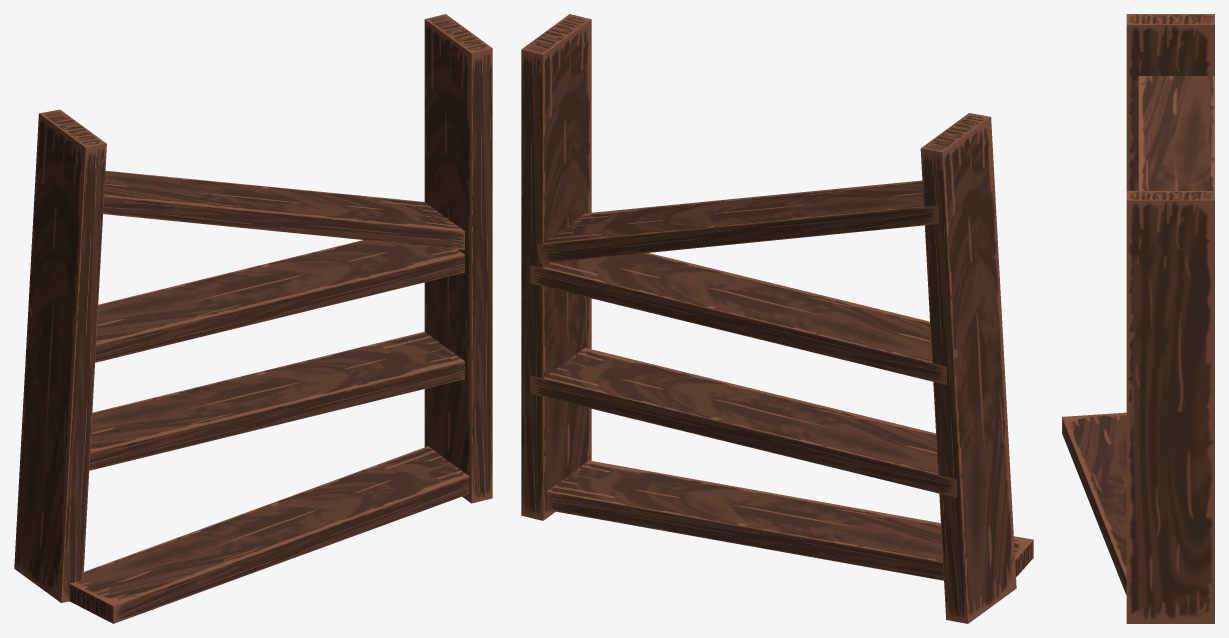
File: Wood_shelving_2.fbx
3 renders of one model, left to right at view 1: azimuth 30°, elevation 25°; view 2: azimuth 150°, elevation 25°; view 3: azimuth 270°, elevation 25°, orthographic. The views are drawn at different scales.
Visible parts, largest first — view 1: Wood_shelving_2; view 2: Wood_shelving_2; view 3: Wood_shelving_2.
Boxes of the visible parts, x1,y1,x2,y2 form: Wood_shelving_2: (14,14,492,623); Wood_shelving_2: (521,14,1033,623); Wood_shelving_2: (1062,14,1214,623).
Size of the model in its own units: 2.01 by 2 by 0.654.
